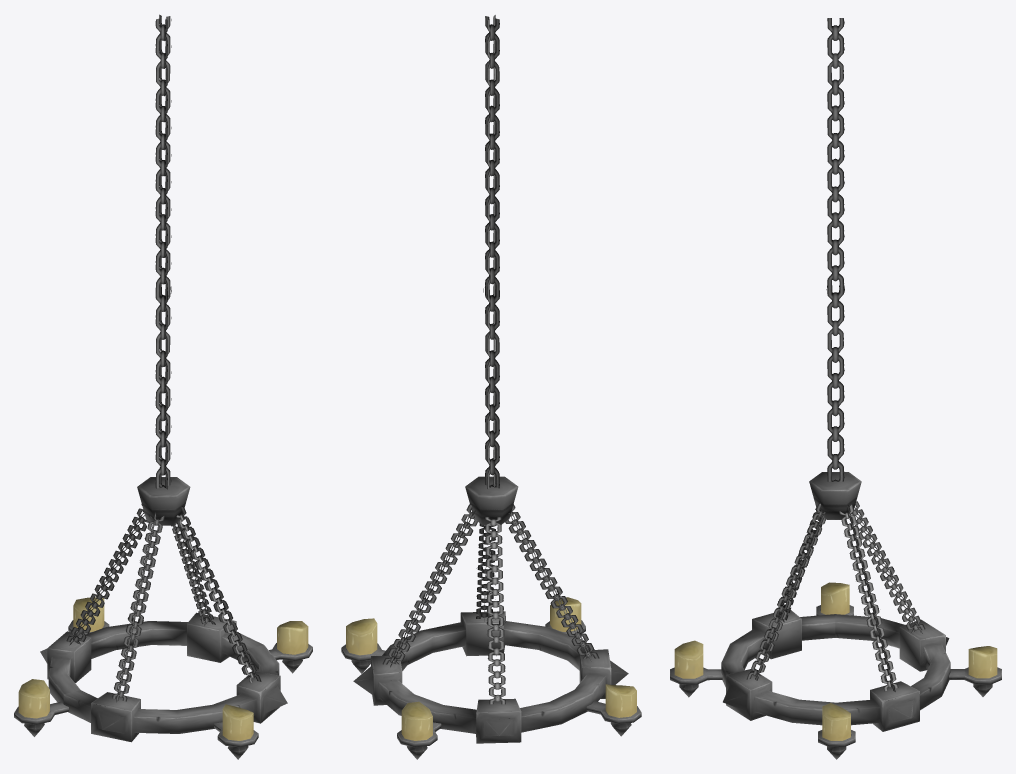
Rendered from chandelier.fbx.
The picture shows the model from 3 angles, left to right: view 1: azimuth 30°, elevation 25°; view 2: azimuth 150°, elevation 25°; view 3: azimuth 270°, elevation 25°; orthographic projection.
Parts seen in each view (by area): view 1: chandelier; view 2: chandelier; view 3: chandelier.
Part boxes in pixels (x1,y1,x2,y2): chandelier: [14, 14, 312, 759]; chandelier: [341, 15, 641, 759]; chandelier: [670, 18, 1001, 759].
Bounding box in the file's own units: 7.03 × 15.84 × 7.01.
